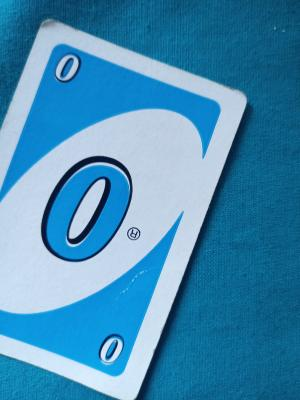blue: (36, 52, 154, 367)
num_0: (49, 46, 93, 86), (95, 328, 124, 369)
